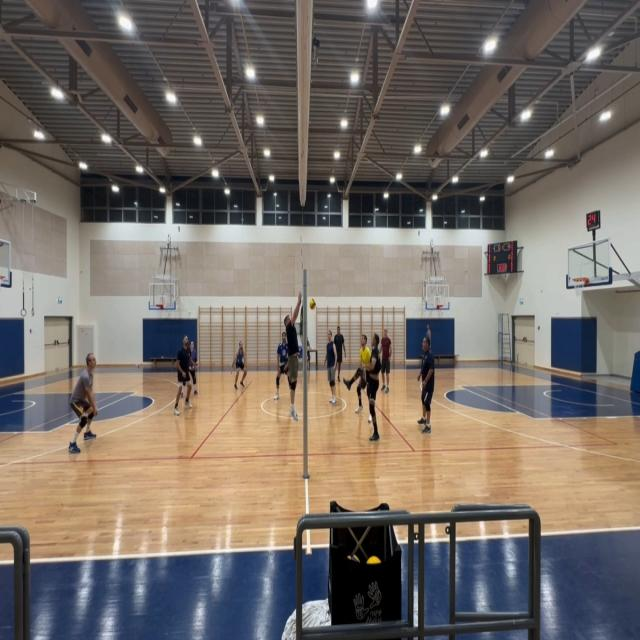volleyball: (310, 298, 316, 310)
